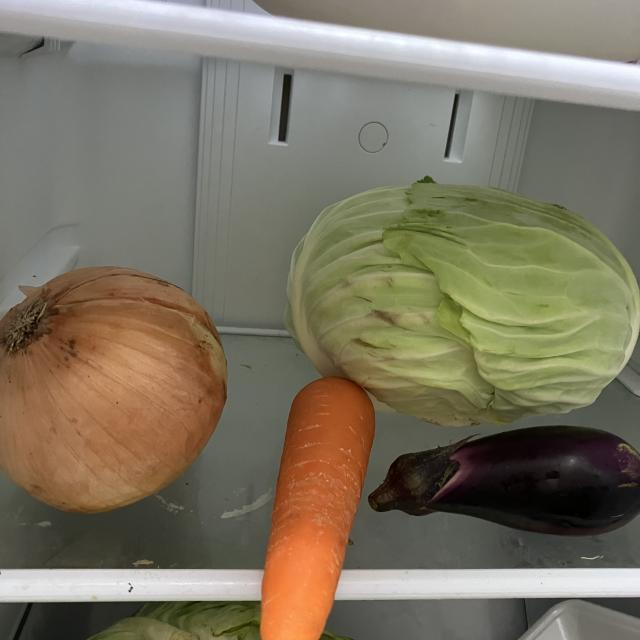cabbage: (281, 174, 640, 428)
onion: (0, 263, 230, 515)
